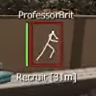hacks_3: (16, 10, 77, 84)
